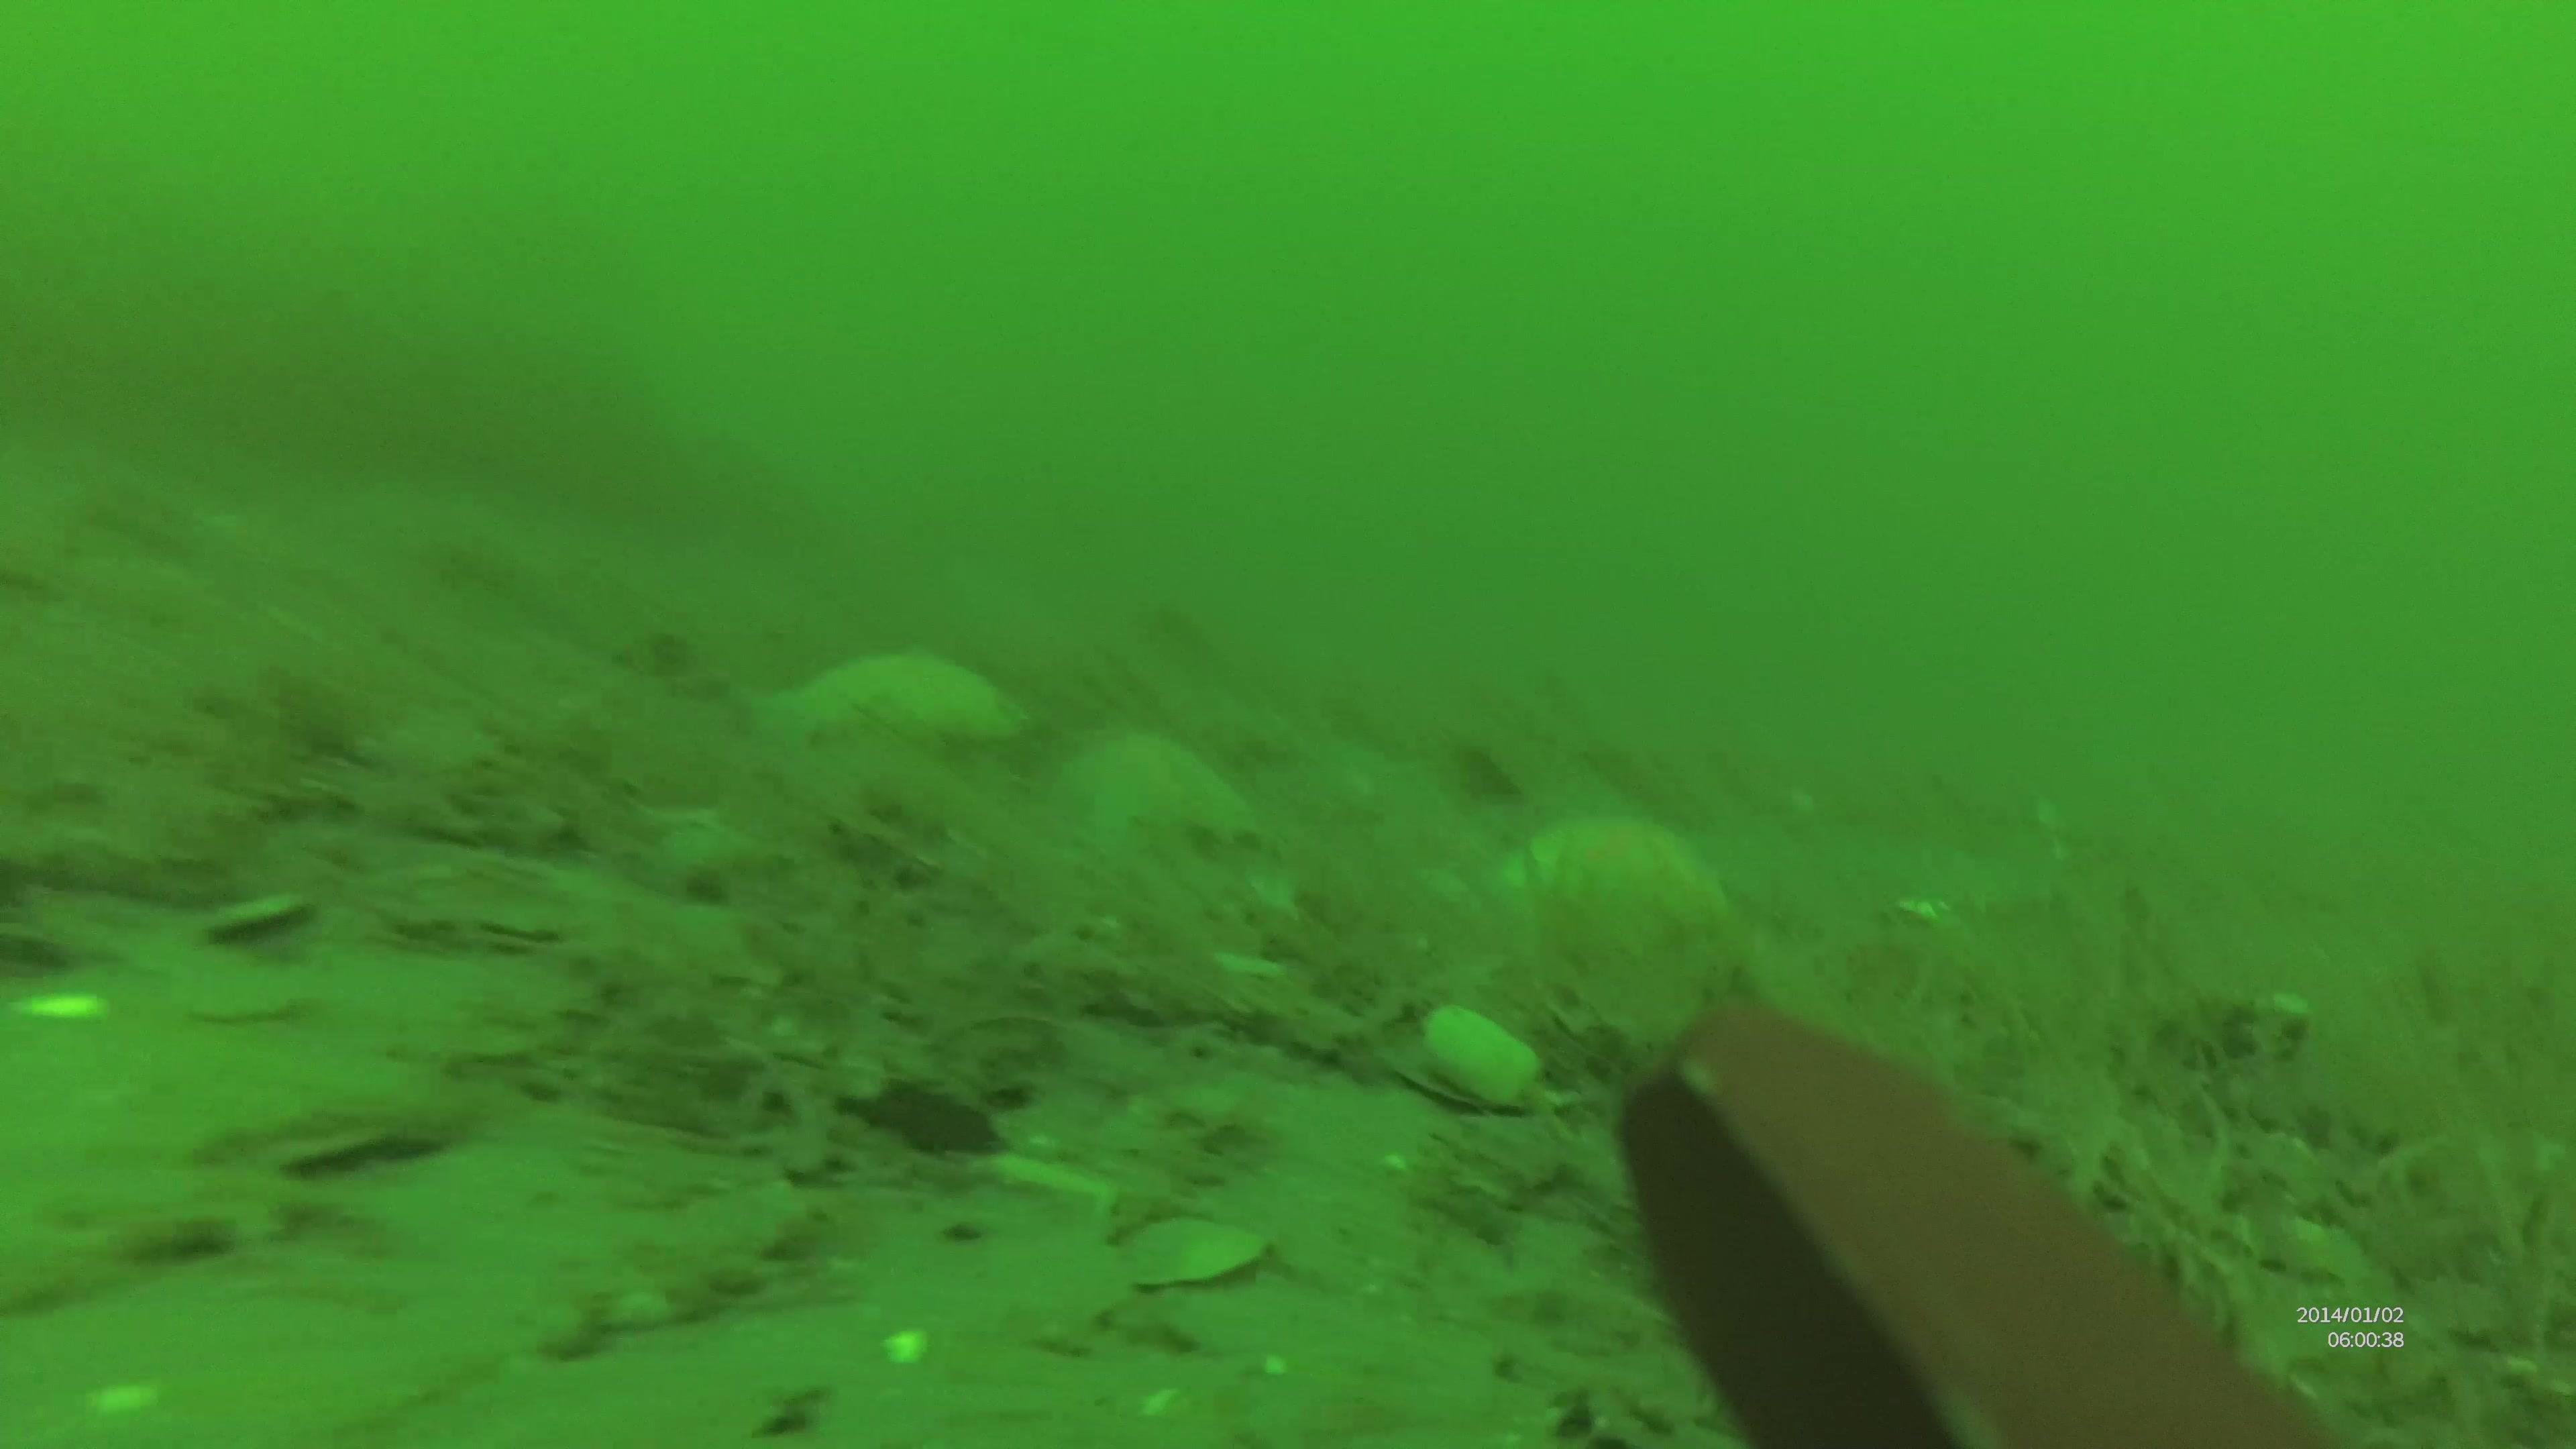starfish: (1499, 805, 1743, 950), (794, 646, 1030, 759), (1062, 727, 1261, 842)
